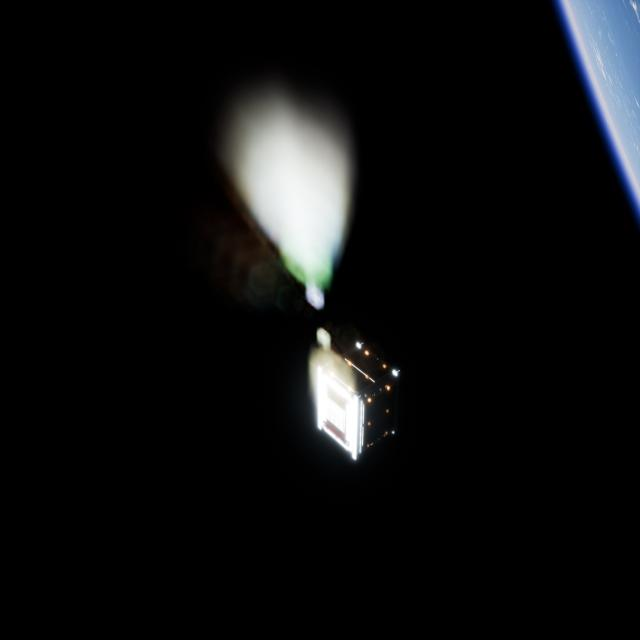medium_debris: (302, 328, 404, 469)
